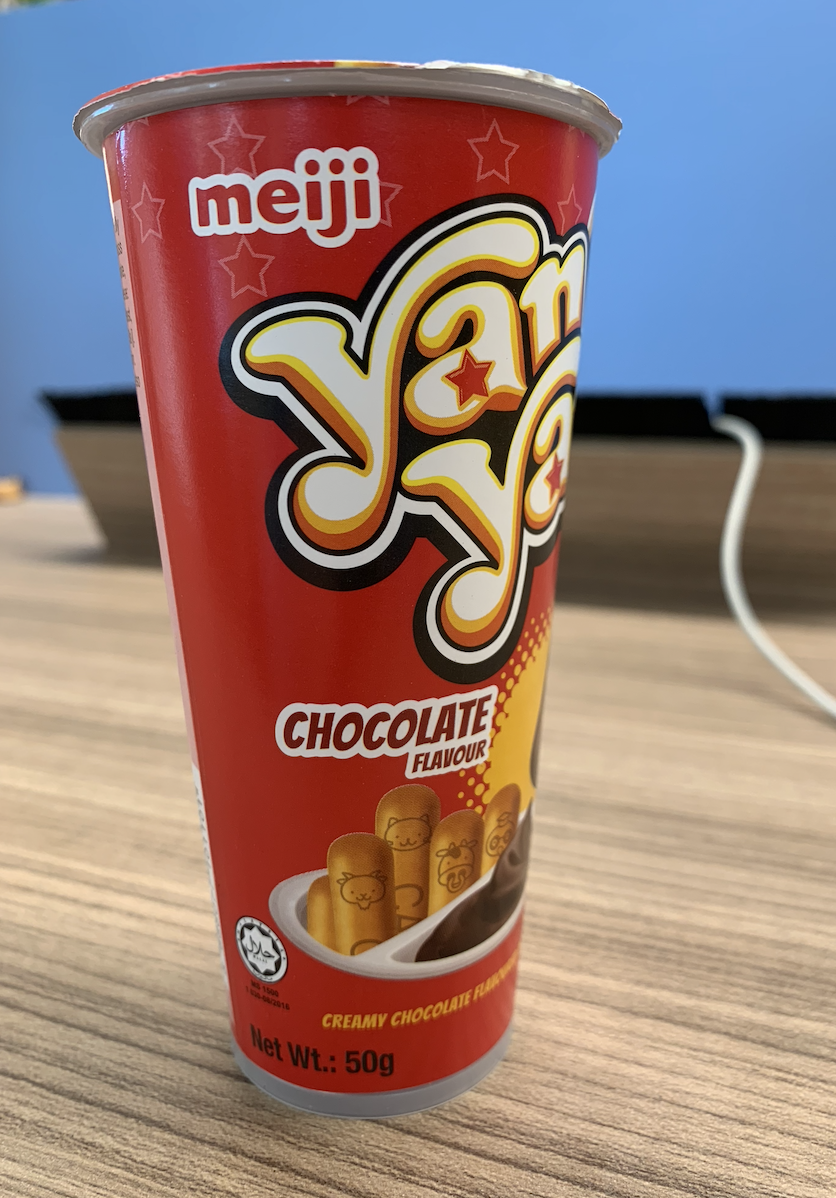cookies_1g-99g: (178, 96, 529, 1089)
